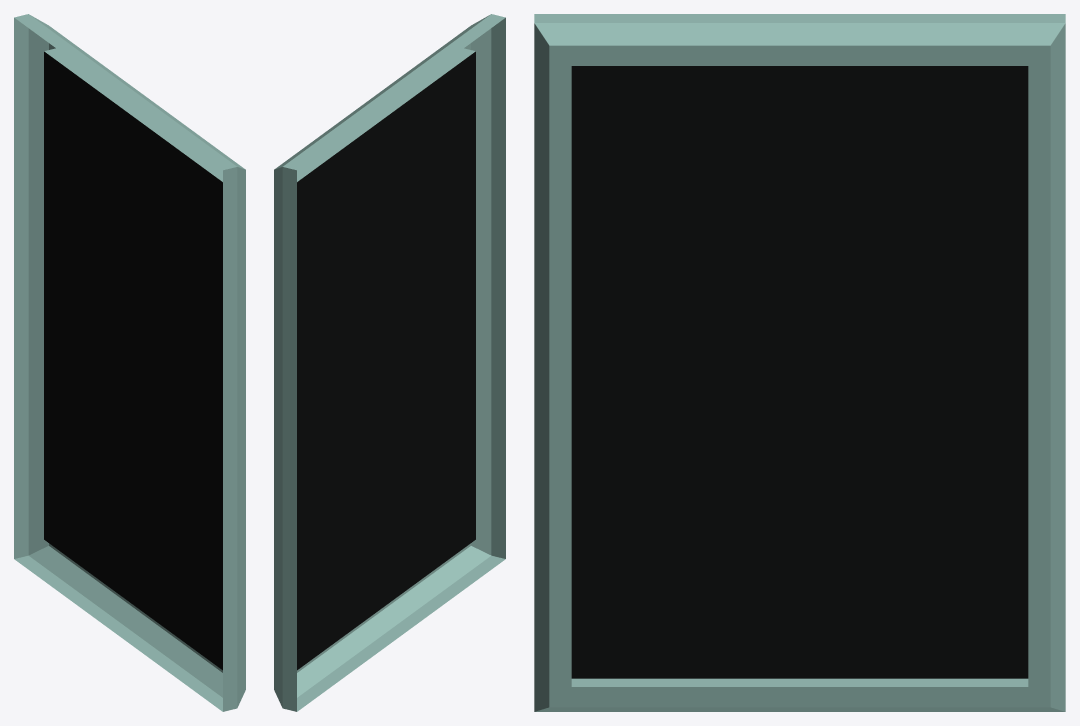
The model's file is Painting (1).fbx.
The picture shows the model from 3 angles, left to right: view 1: azimuth 30°, elevation 25°; view 2: azimuth 150°, elevation 25°; view 3: azimuth 270°, elevation 25°; orthographic projection. The views are drawn at different scales.
Parts seen in each view (by area): view 1: Portrait; view 2: Portrait; view 3: Portrait.
Part boxes in pixels (box(x1,y1,x2,y2)): Portrait: box(14, 14, 245, 711); Portrait: box(274, 14, 505, 711); Portrait: box(534, 14, 1065, 711).
Bounding box in the file's own units: 8.14 × 146 × 102.
